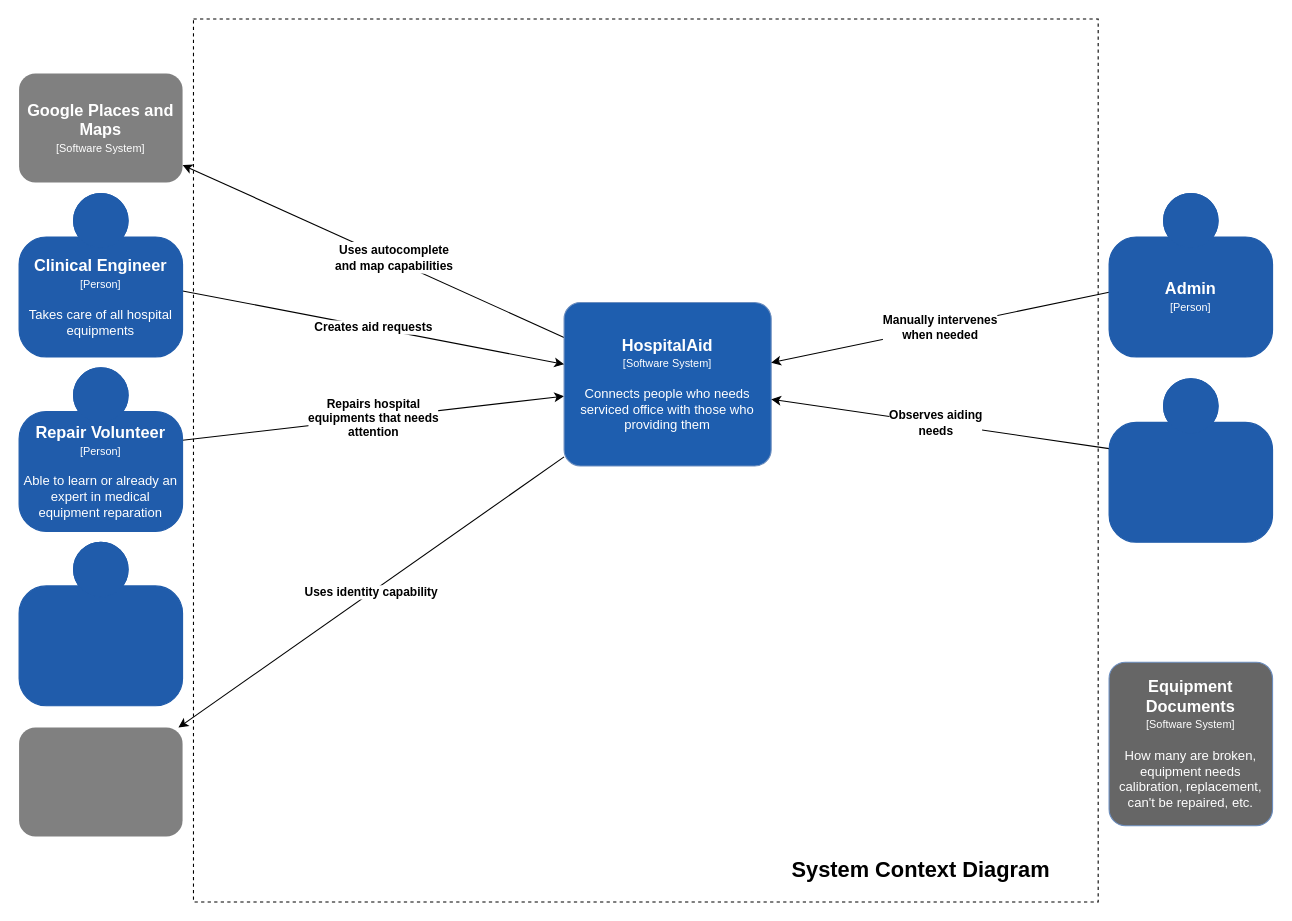
This 1292x921 diagram has some shape labels left out. The centre of each missing label's shape, as x and y in pixels:
Auth0 [Software System] Identity as a Service: point 100,781
Donor [Person] Purchases medical supplies and look for recipients in need: point 100,623
Public [Person]: point 1190,460
